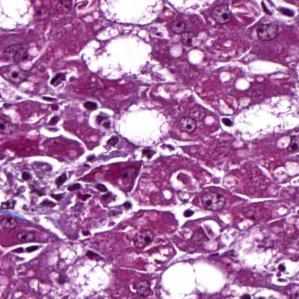ballooning: (32, 239, 114, 298), (79, 22, 155, 83), (228, 93, 299, 144), (114, 97, 174, 150)
